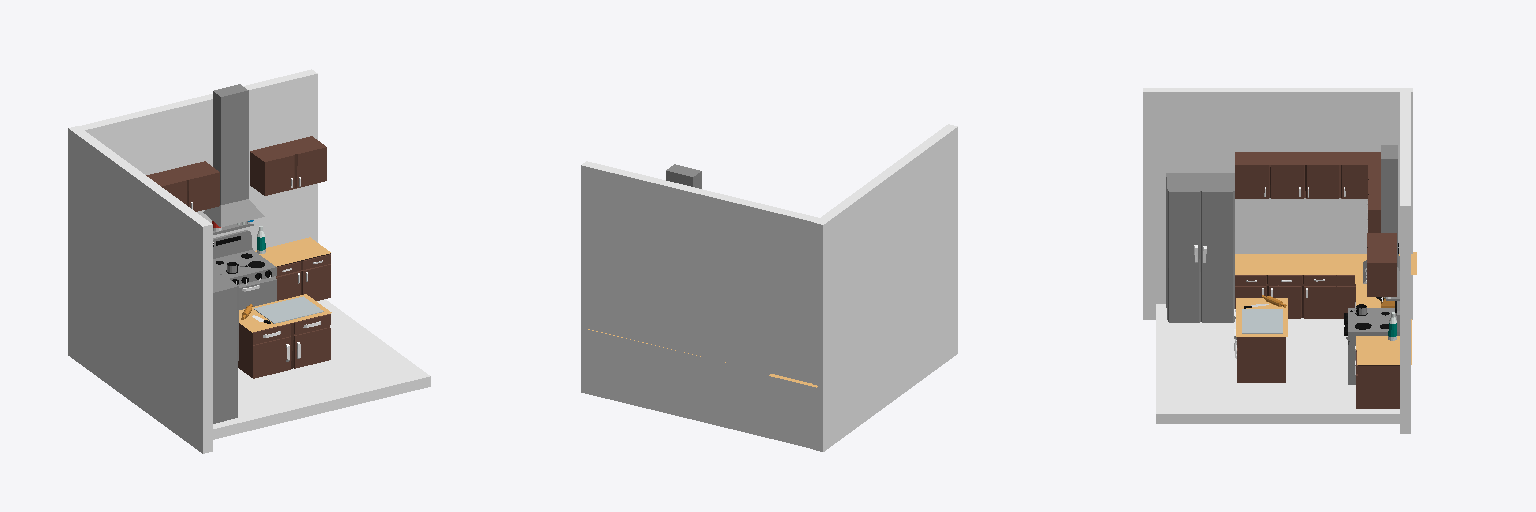
The model's file is kitchen.obj.
3 views of the same model, side by side, from view 1: azimuth 30°, elevation 25°; view 2: azimuth 150°, elevation 25°; view 3: azimuth 270°, elevation 25° (orthographic).
Visible parts, largest first — view 1: group[number redacted], group[number redacted], group[number redacted], group[number redacted], group[number redacted], group[number redacted], group[number redacted], group[number redacted], group[number redacted], group[number redacted], group[number redacted]; view 2: group[number redacted], group[number redacted], group[number redacted]; view 3: group[number redacted], group[number redacted], group[number redacted], group[number redacted], group[number redacted], group[number redacted], group[number redacted], group[number redacted], group[number redacted], group[number redacted], group[number redacted], group[number redacted] (+1 smaller).
Part boxes in pixels (left/top/right/bottom): group[number redacted]: left=68, top=126, right=212, bottom=453; group[number redacted]: left=79, top=69, right=317, bottom=250; group[number redacted]: left=213, top=299, right=430, bottom=439; group[number redacted]: left=203, top=84, right=264, bottom=226; group[number redacted]: left=238, top=294, right=331, bottom=378; group[number redacted]: left=213, top=267, right=238, bottom=423; group[number redacted]: left=250, top=136, right=326, bottom=195; group[number redacted]: left=255, top=237, right=330, bottom=300; group[number redacted]: left=213, top=230, right=276, bottom=309; group[number redacted]: left=146, top=161, right=219, bottom=211; group[number redacted]: left=254, top=296, right=323, bottom=323; group[number redacted]: left=581, top=161, right=818, bottom=448; group[number redacted]: left=813, top=124, right=957, bottom=451; group[number redacted]: left=666, top=164, right=701, bottom=188; group[number redacted]: left=1143, top=88, right=1412, bottom=319; group[number redacted]: left=1156, top=304, right=1399, bottom=423; group[number redacted]: left=1166, top=173, right=1234, bottom=322; group[number redacted]: left=1235, top=252, right=1416, bottom=318; group[number redacted]: left=1235, top=152, right=1380, bottom=198; group[number redacted]: left=1400, top=92, right=1410, bottom=433; group[number redacted]: left=1355, top=270, right=1411, bottom=408; group[number redacted]: left=1236, top=298, right=1287, bottom=382; group[number redacted]: left=1367, top=233, right=1396, bottom=296; group[number redacted]: left=1363, top=145, right=1399, bottom=283; group[number redacted]: left=1348, top=301, right=1399, bottom=384; group[number redacted]: left=1242, top=309, right=1282, bottom=333.
Size of the model in its own units: 1.95 by 1.81 by 1.9.